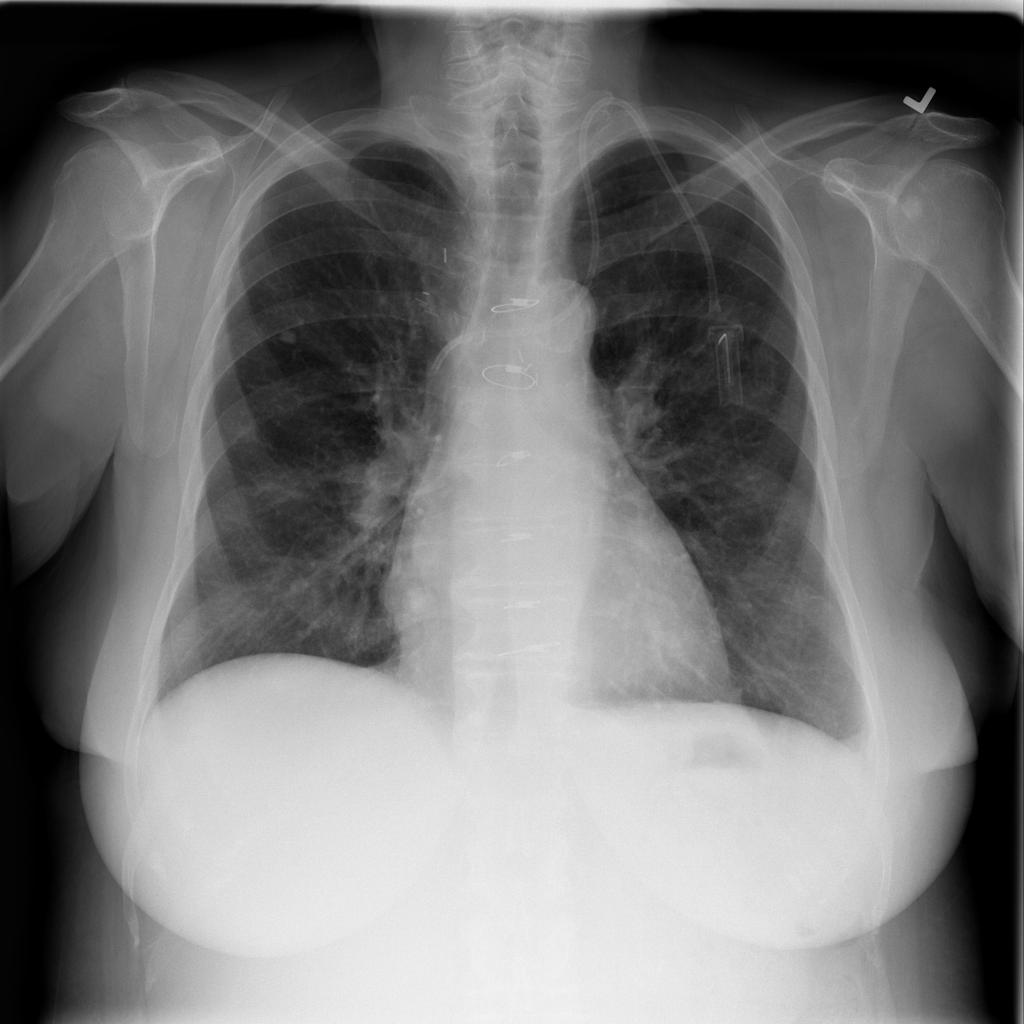nodule: (265, 309, 314, 360)
